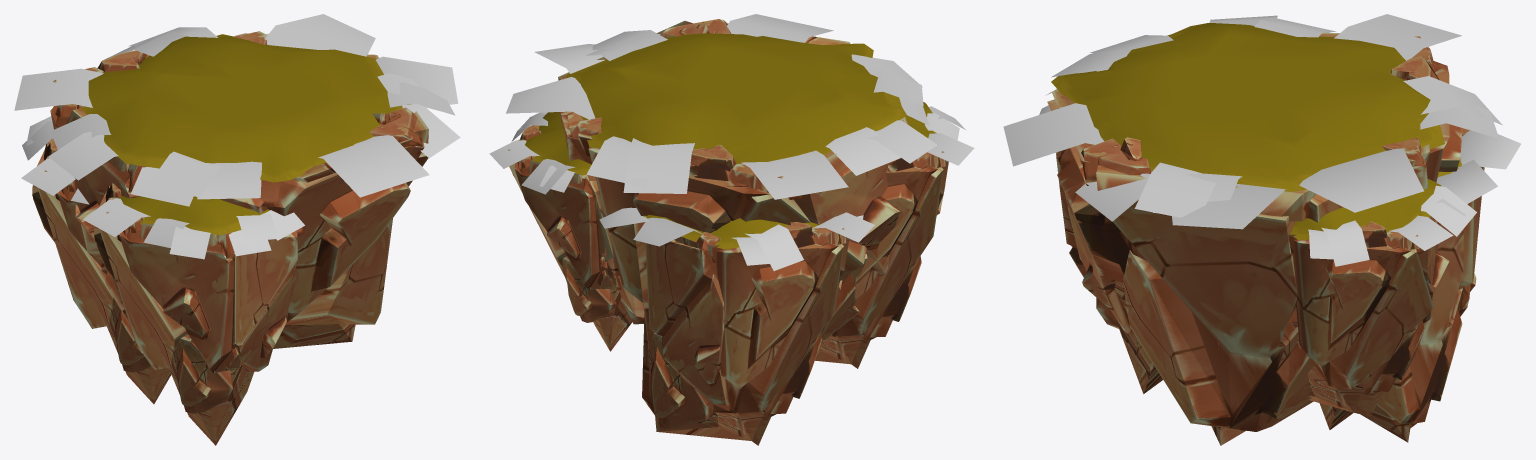
File: SM_Island_type2.FBX
3 views of the same model, side by side, from view 1: azimuth 30°, elevation 25°; view 2: azimuth 150°, elevation 25°; view 3: azimuth 270°, elevation 25° (orthographic). The views are drawn at different scales.
Parts seen in each view (by area): view 1: Object034, Object036, Object037; view 2: Object034, Object037, Object035, Object036; view 3: Object034, Object035, Object037, Object036.
Boxes of the visible parts, left/top/right/bottom form: Object034: left=14, top=14, right=460, bottom=348; Object036: left=83, top=183, right=304, bottom=445; Object037: left=21, top=116, right=171, bottom=404; Object034: left=506, top=14, right=937, bottom=340; Object037: left=599, top=207, right=874, bottom=445; Object035: left=489, top=112, right=632, bottom=351; Object036: left=815, top=102, right=974, bottom=368; Object034: left=1003, top=14, right=1502, bottom=445; Object035: left=1287, top=179, right=1476, bottom=416; Object037: left=1319, top=128, right=1520, bottom=442; Object036: left=1039, top=89, right=1162, bottom=393.
Bounding box in the file's own units: 138 × 109 × 136.
